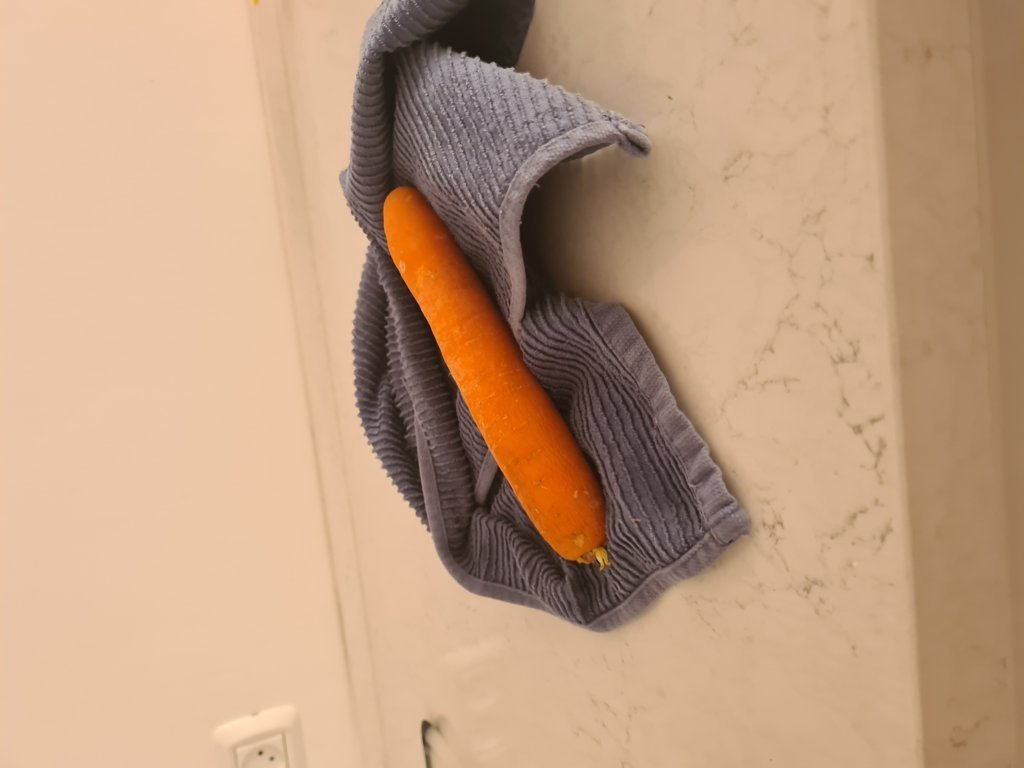carrot: (386, 182, 617, 552)
